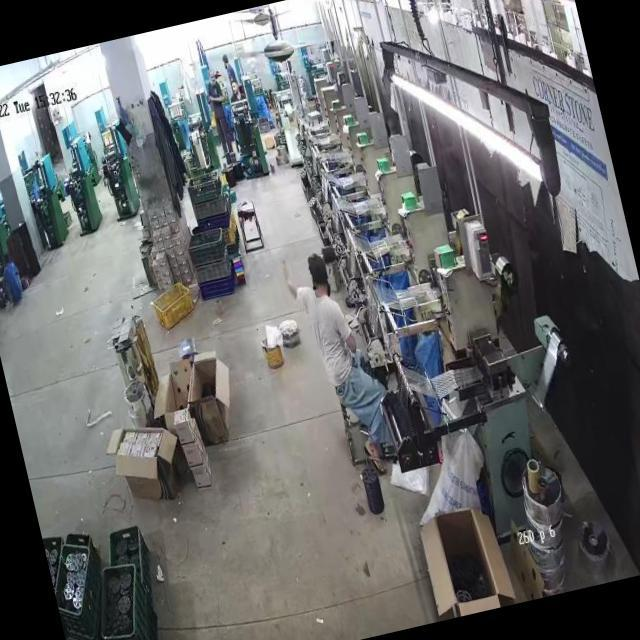person: (292, 238, 399, 482), (204, 74, 236, 150), (215, 47, 238, 84)
